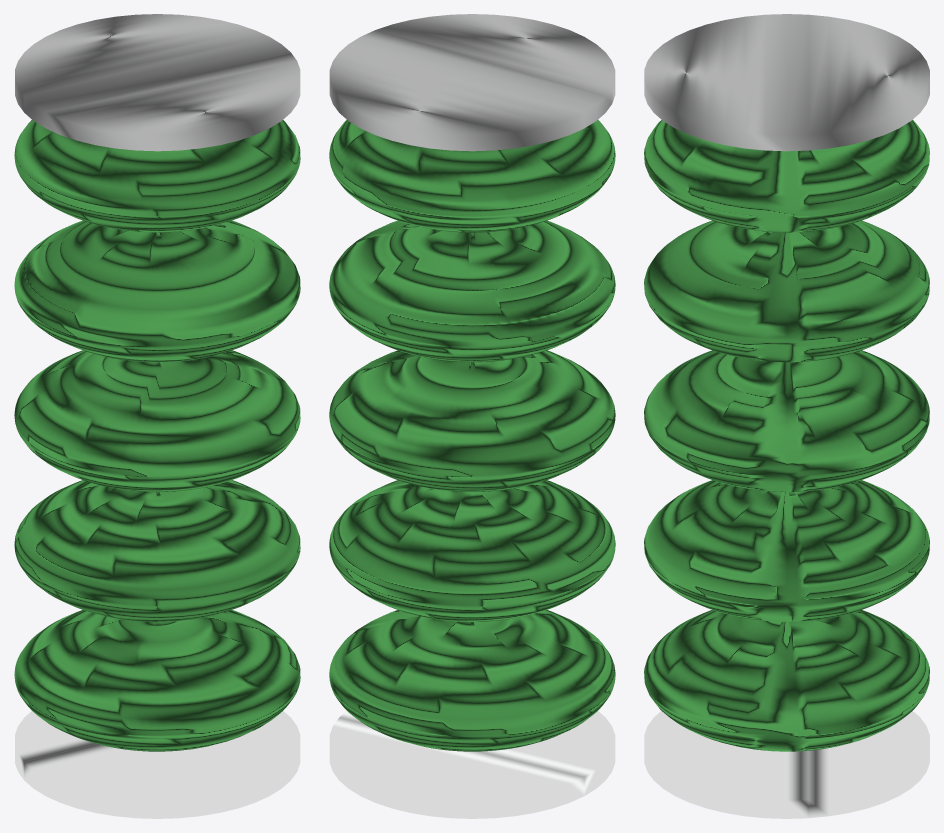
The model's file is hourGlass.gltf.
3 views of the same model, side by side, from view 1: azimuth 30°, elevation 25°; view 2: azimuth 150°, elevation 25°; view 3: azimuth 270°, elevation 25° (orthographic).
Visible parts, largest first — view 1: hourGlass_v1; view 2: hourGlass_v1; view 3: hourGlass_v1.
Part boxes in pixels (x1,y1,x2,y2): hourGlass_v1: (14,14,300,818); hourGlass_v1: (329,14,615,818); hourGlass_v1: (644,14,929,818).
Bounding box in the file's own units: 8 × 21.08 × 7.99.
